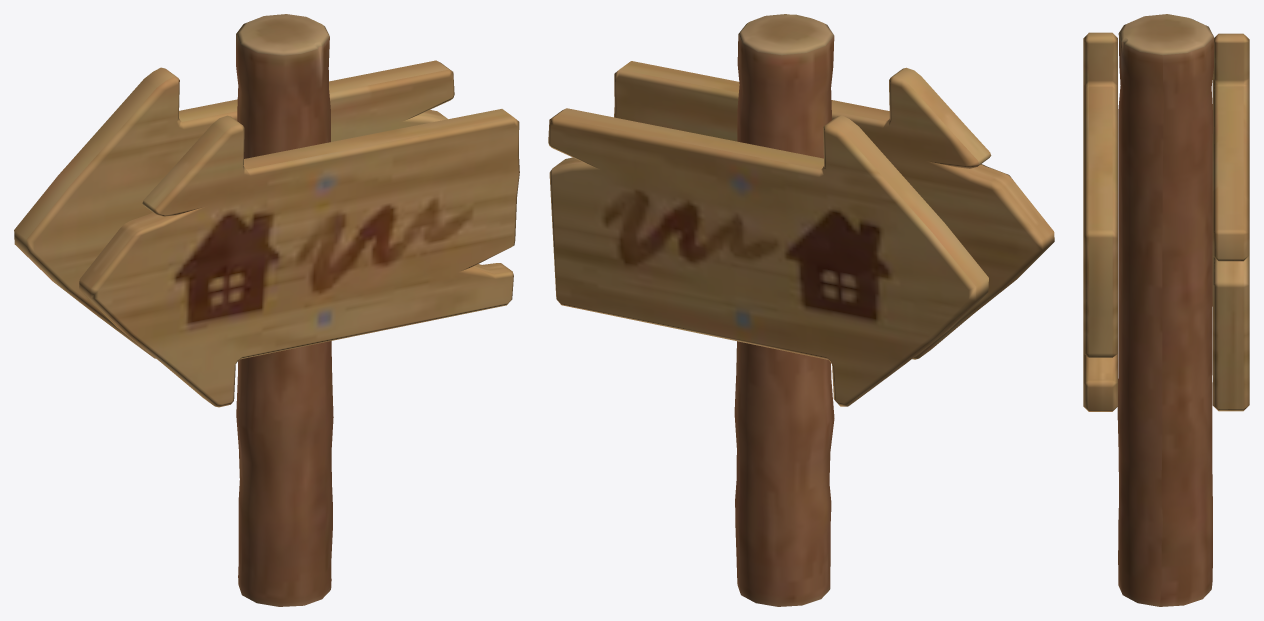
Rendered from signpost.glb.
3 views of the same model, side by side, from view 1: azimuth 30°, elevation 25°; view 2: azimuth 150°, elevation 25°; view 3: azimuth 270°, elevation 25° (orthographic).
Size of the model in its own units: 8.6 by 10.69 by 2.89.
Materials: 1 (1 with a texture image).
